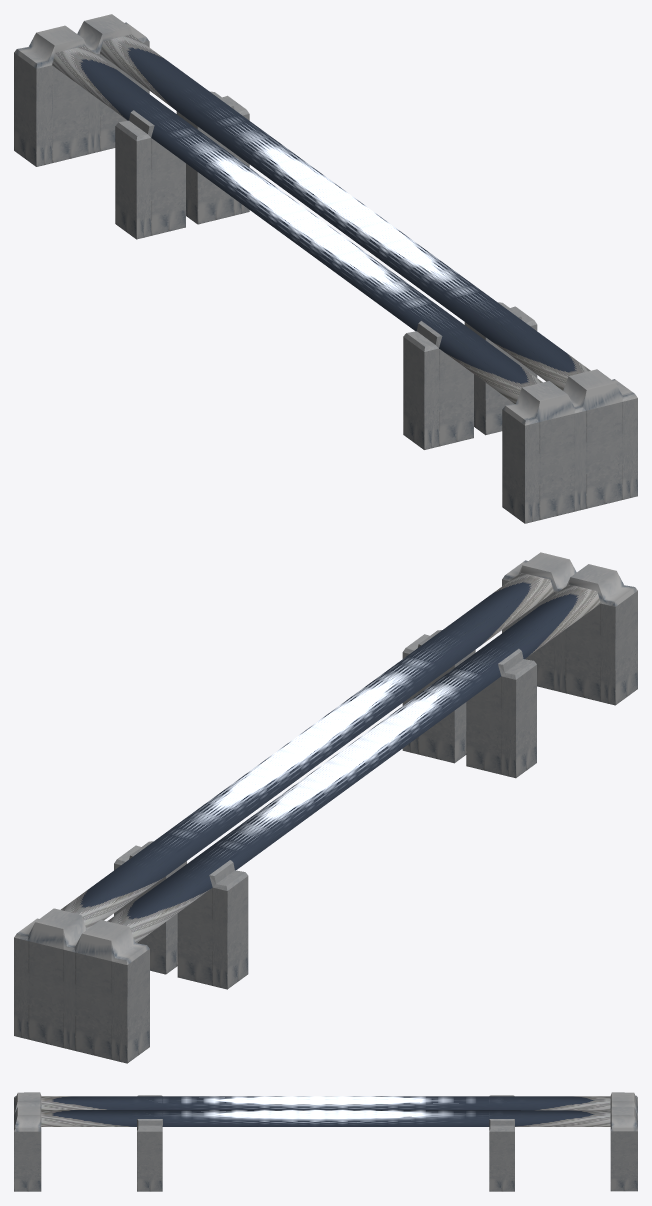
File: SM_Light4.fbx
The picture shows the model from 3 angles, top to bottom: view 1: azimuth 30°, elevation 25°; view 2: azimuth 150°, elevation 25°; view 3: azimuth 270°, elevation 25°; orthographic projection. The views are drawn at different scales.
Visible parts, largest first — view 1: SM_Light4_LOD0; view 2: SM_Light4_LOD0; view 3: SM_Light4_LOD0.
Part boxes in pixels (x1,y1,x2,y2): SM_Light4_LOD0: [14, 14, 637, 523]; SM_Light4_LOD0: [14, 552, 637, 1063]; SM_Light4_LOD0: [14, 1092, 637, 1191].
Size of the model in its own units: 12.14 by 94.18 by 11.83.
Materials: 2 (2 with a texture image).
